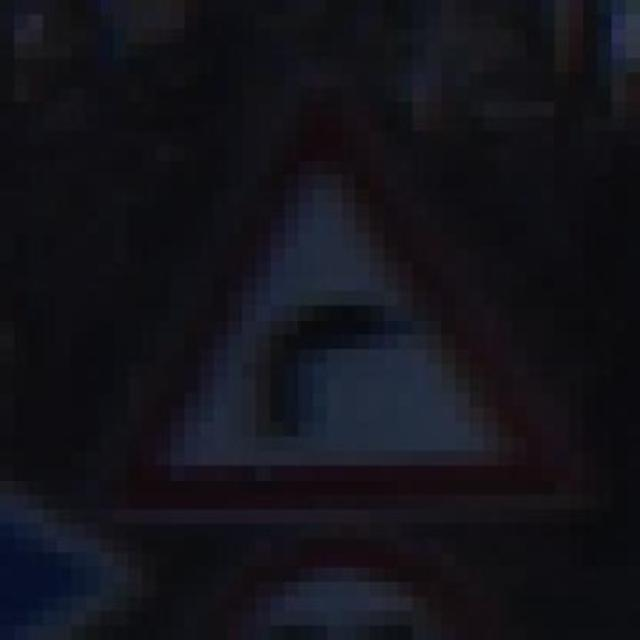Dangerous Rright Curve Ahead: (85, 101, 598, 538)
